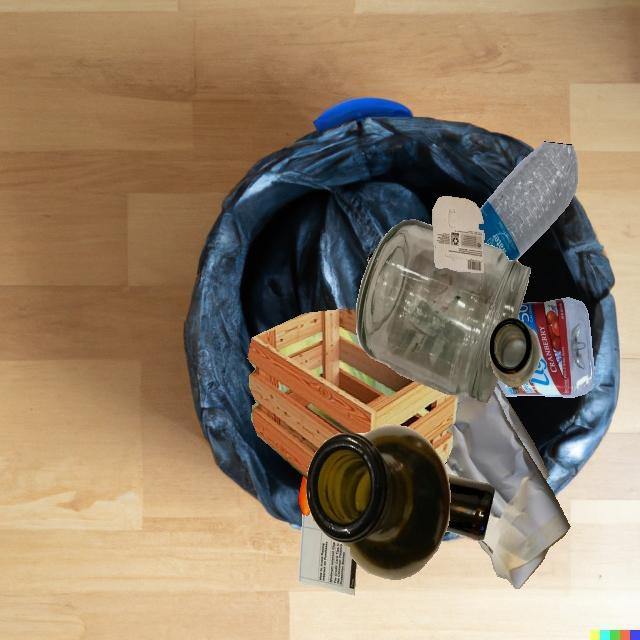biowaste: (298, 475, 310, 516)
combustible waste: (247, 308, 459, 478)
glass: (356, 219, 531, 402), (306, 424, 451, 579), (489, 318, 540, 386), (445, 474, 495, 541), (368, 253, 374, 263)
paper: (444, 390, 570, 589), (494, 382, 549, 480), (298, 513, 356, 595), (432, 196, 484, 273)
plastic: (478, 142, 578, 260), (497, 297, 594, 397)
